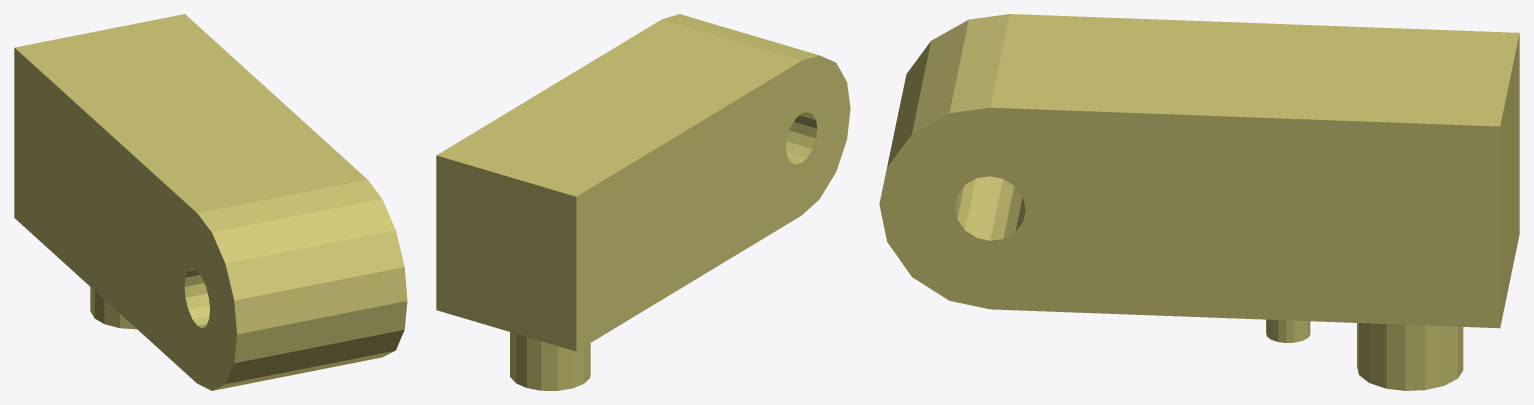
The model's file is LARM_INDEX1_LINK_mesh.dae.
3 views of the same model, side by side, from view 1: azimuth 30°, elevation 25°; view 2: azimuth 150°, elevation 25°; view 3: azimuth 270°, elevation 25° (orthographic). The views are drawn at different scales.
Parts seen in each view (by area): view 1: LARM_INDEX1_LINK; view 2: LARM_INDEX1_LINK; view 3: LARM_INDEX1_LINK.
Boxes of the visible parts, left/top/right/bottom form: LARM_INDEX1_LINK: left=14, top=14, right=407, bottom=390; LARM_INDEX1_LINK: left=436, top=14, right=850, bottom=390; LARM_INDEX1_LINK: left=879, top=14, right=1519, bottom=390.
Size of the model in its own units: 0.0124 by 0.0145 by 0.0288.
